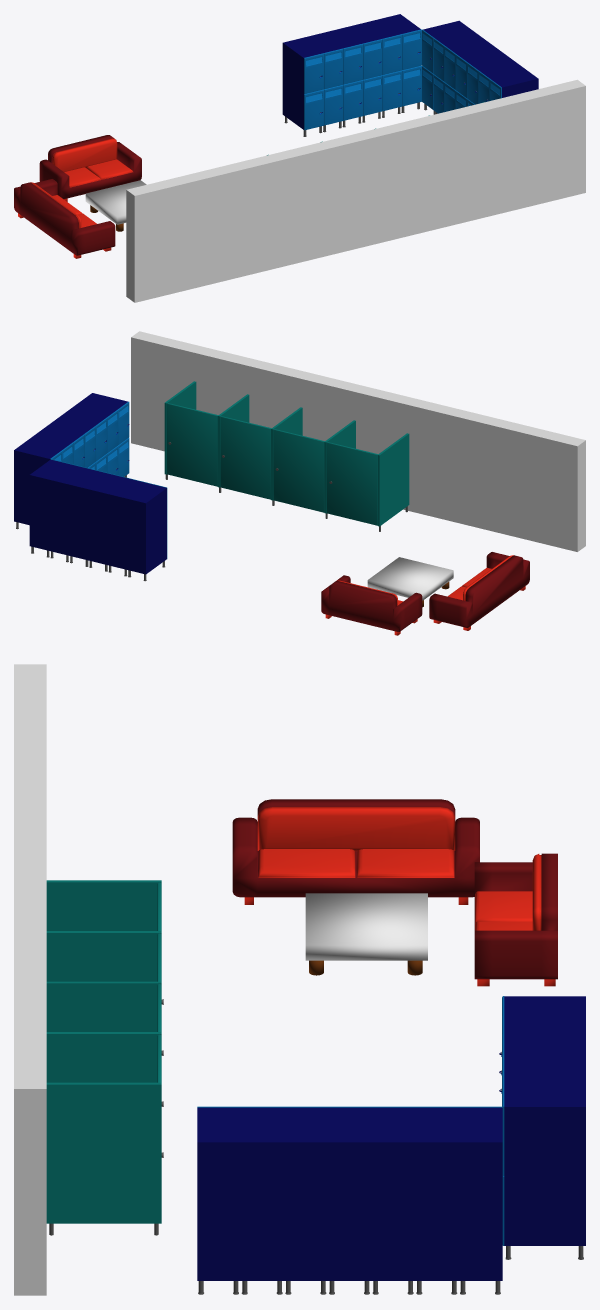
The model's file is GuardianRoomObject.fbx.
3 renders of one model, top to bottom at view 1: azimuth 30°, elevation 25°; view 2: azimuth 150°, elevation 25°; view 3: azimuth 270°, elevation 25°, orthographic. The views are drawn at different scales.
Visible parts, largest first — view 1: Cube.001; view 2: Cube.001; view 3: Cube.001.
Boxes of the visible parts, box(x1,y1,x2,y2) form: Cube.001: box(14, 14, 585, 302); Cube.001: box(14, 331, 585, 635); Cube.001: box(14, 664, 585, 1295).
Size of the model in its own units: 1312 by 297 by 747.
